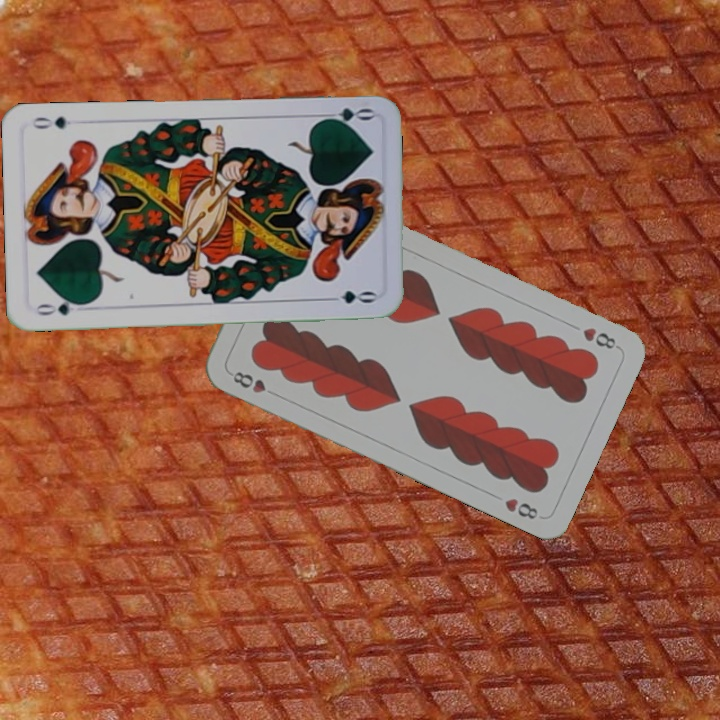GO: (316, 104, 375, 129), (32, 295, 90, 318)
H8: (578, 323, 622, 352), (229, 367, 268, 396)
